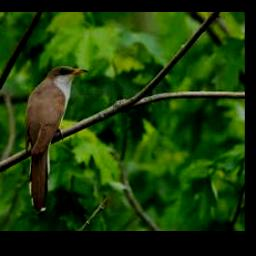Cuckoo: (24, 66, 89, 212)
